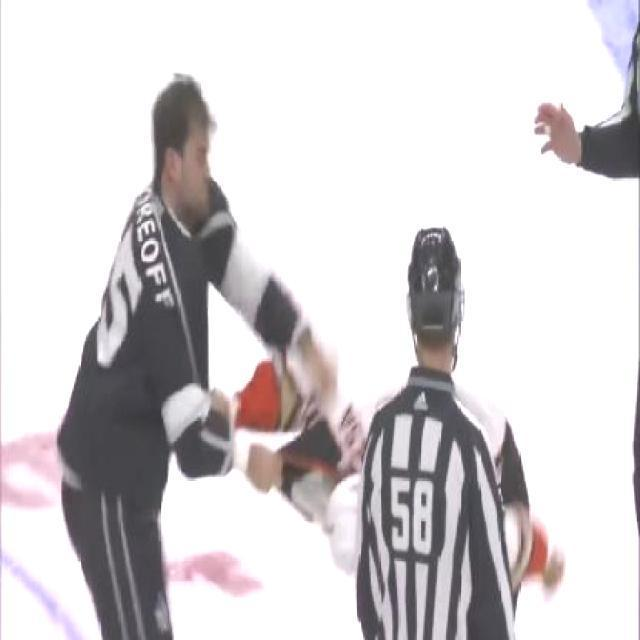fight: (54, 56, 394, 638), (204, 372, 562, 606)
